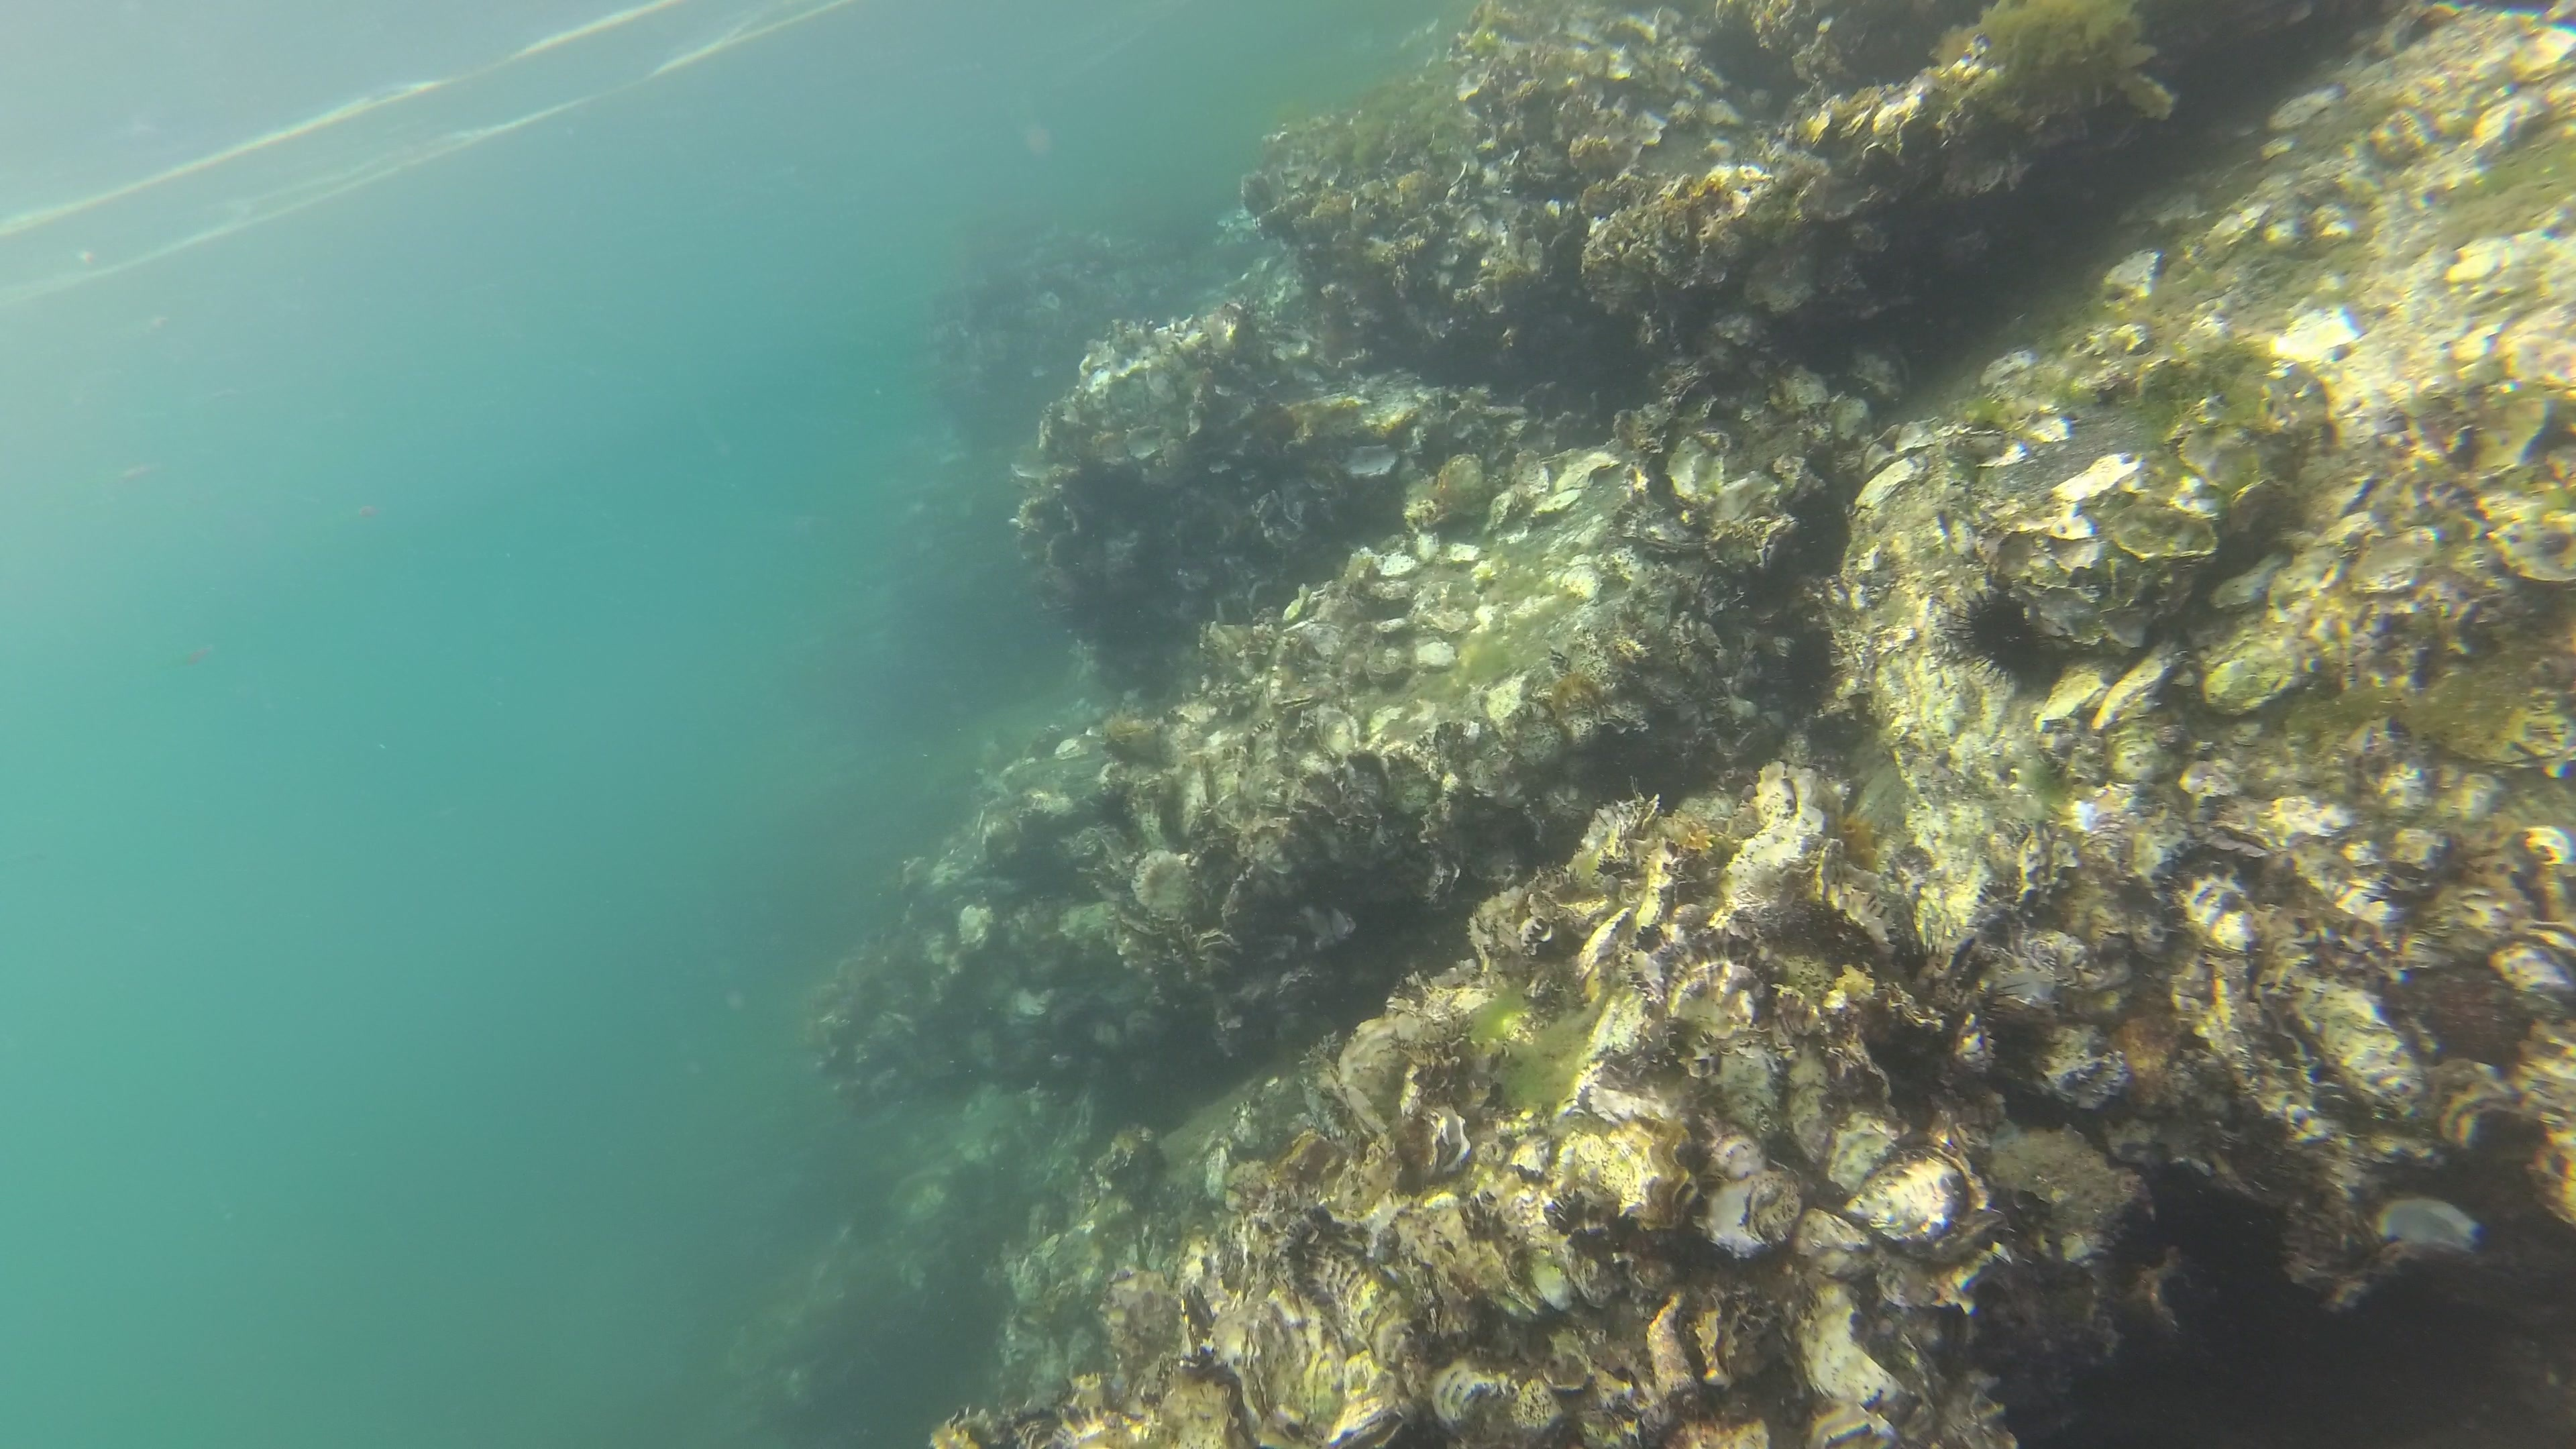echinus: (1943, 586, 2059, 686), (1778, 632, 1840, 708)
